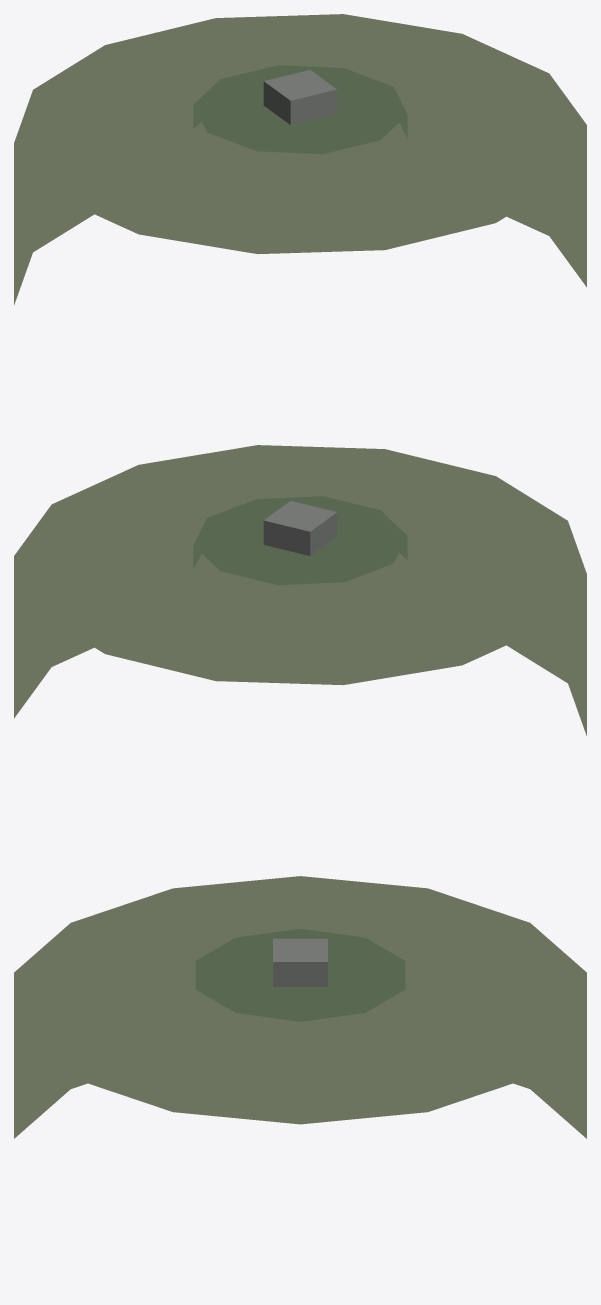
3 views of the same model, one above another, from view 1: azimuth 30°, elevation 25°; view 2: azimuth 150°, elevation 25°; view 3: azimuth 270°, elevation 25° (orthographic). The views are drawn at different scales.
Visible parts, largest first — view 1: body; view 2: body; view 3: body.
Part boxes in pixels (box(x1,y1,x2,y2)): body: box(14, 14, 586, 304); body: box(14, 445, 586, 735); body: box(14, 876, 586, 1138).
Bounding box in the file's own units: 0.32 × 0.13 × 0.312.
